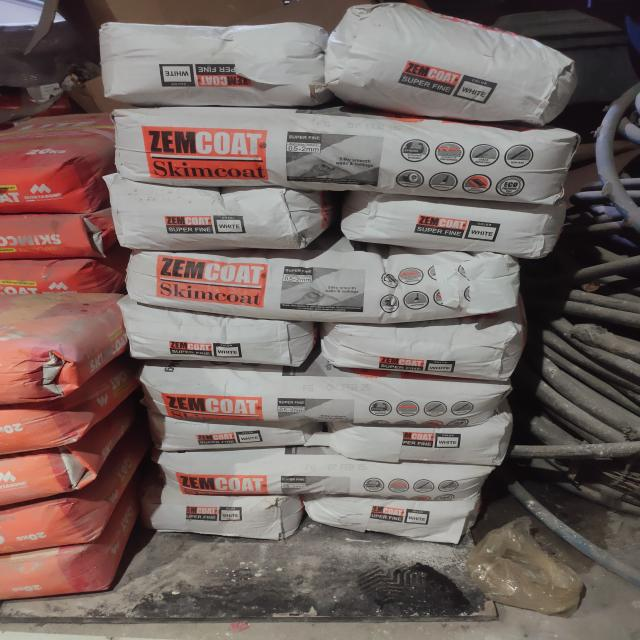Skim coat: (114, 112, 560, 204), (121, 252, 523, 319), (146, 374, 503, 425), (161, 452, 487, 505), (102, 29, 316, 100), (343, 28, 557, 99), (116, 183, 319, 252), (350, 196, 549, 255), (123, 312, 298, 363), (337, 327, 512, 377), (309, 496, 468, 547), (334, 426, 510, 467), (157, 415, 320, 456), (157, 493, 301, 536)
